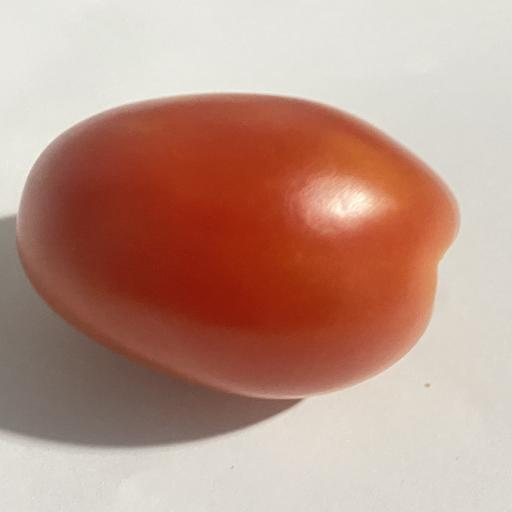ripe: (17, 93, 458, 399)
